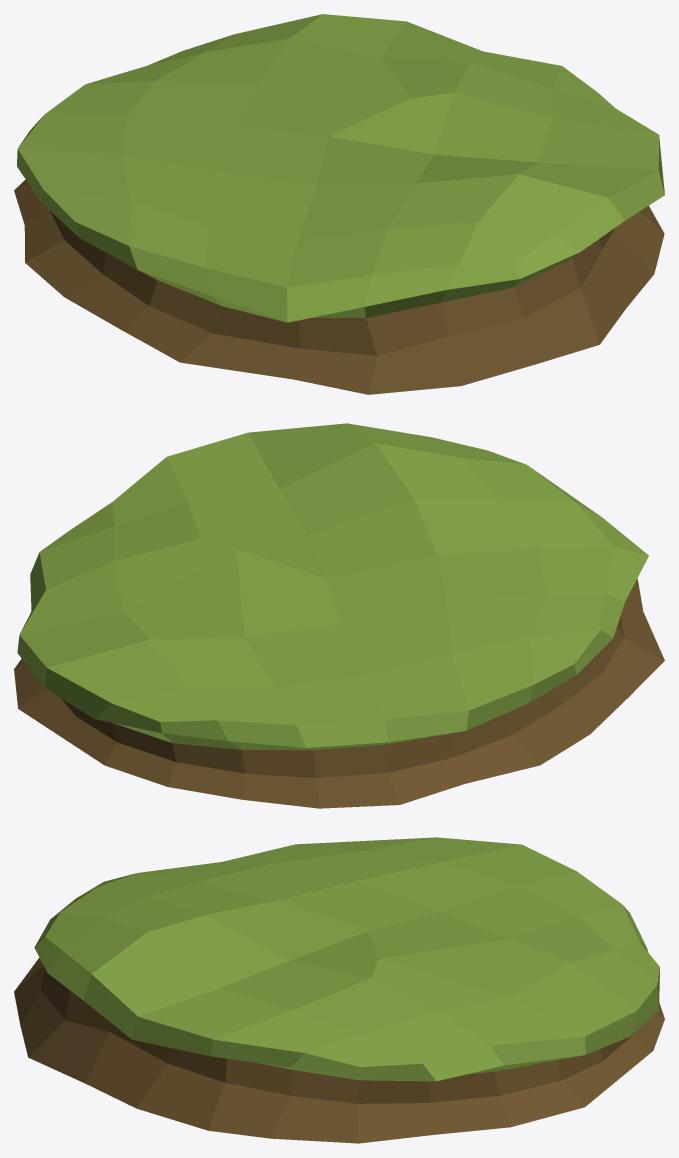
The model's file is hill3.fbx.
3 views of the same model, one above another, from view 1: azimuth 30°, elevation 25°; view 2: azimuth 150°, elevation 25°; view 3: azimuth 270°, elevation 25° (orthographic). The views are drawn at different scales.
Parts seen in each view (by area): view 1: hill3_LOD0; view 2: hill3_LOD0; view 3: hill3_LOD0.
Part boxes in pixels (x1,y1,x2,y2): hill3_LOD0: [14, 14, 664, 394]; hill3_LOD0: [14, 423, 664, 808]; hill3_LOD0: [14, 837, 664, 1143].
Size of what is drawn, in the model's own units: 24.14 by 5.41 by 27.11.
